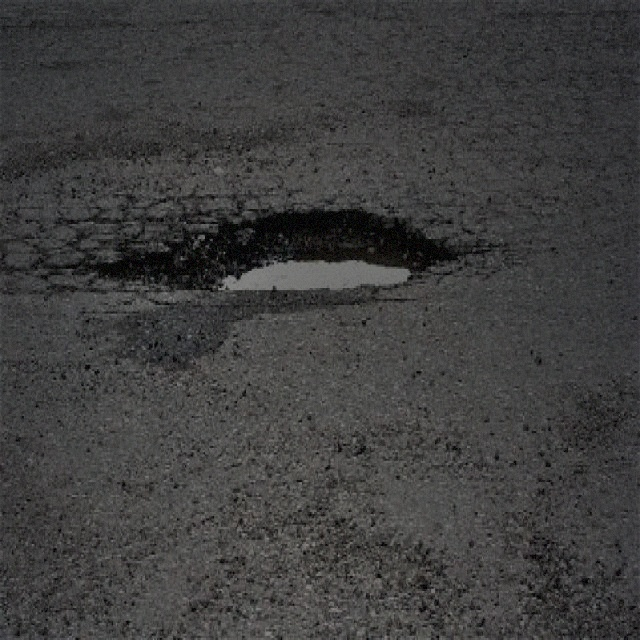pothole: (92, 196, 451, 299)
